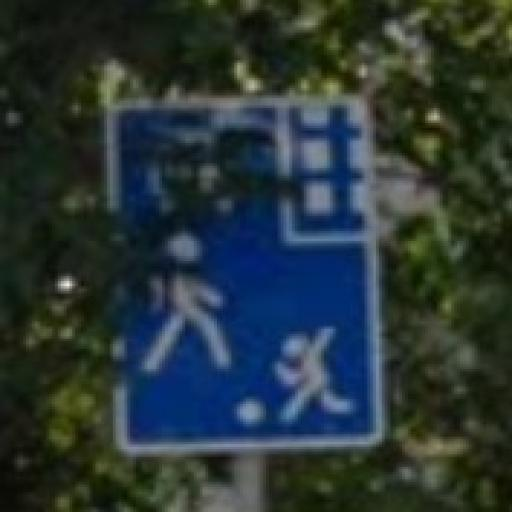traffic_sign: (105, 97, 389, 456)
